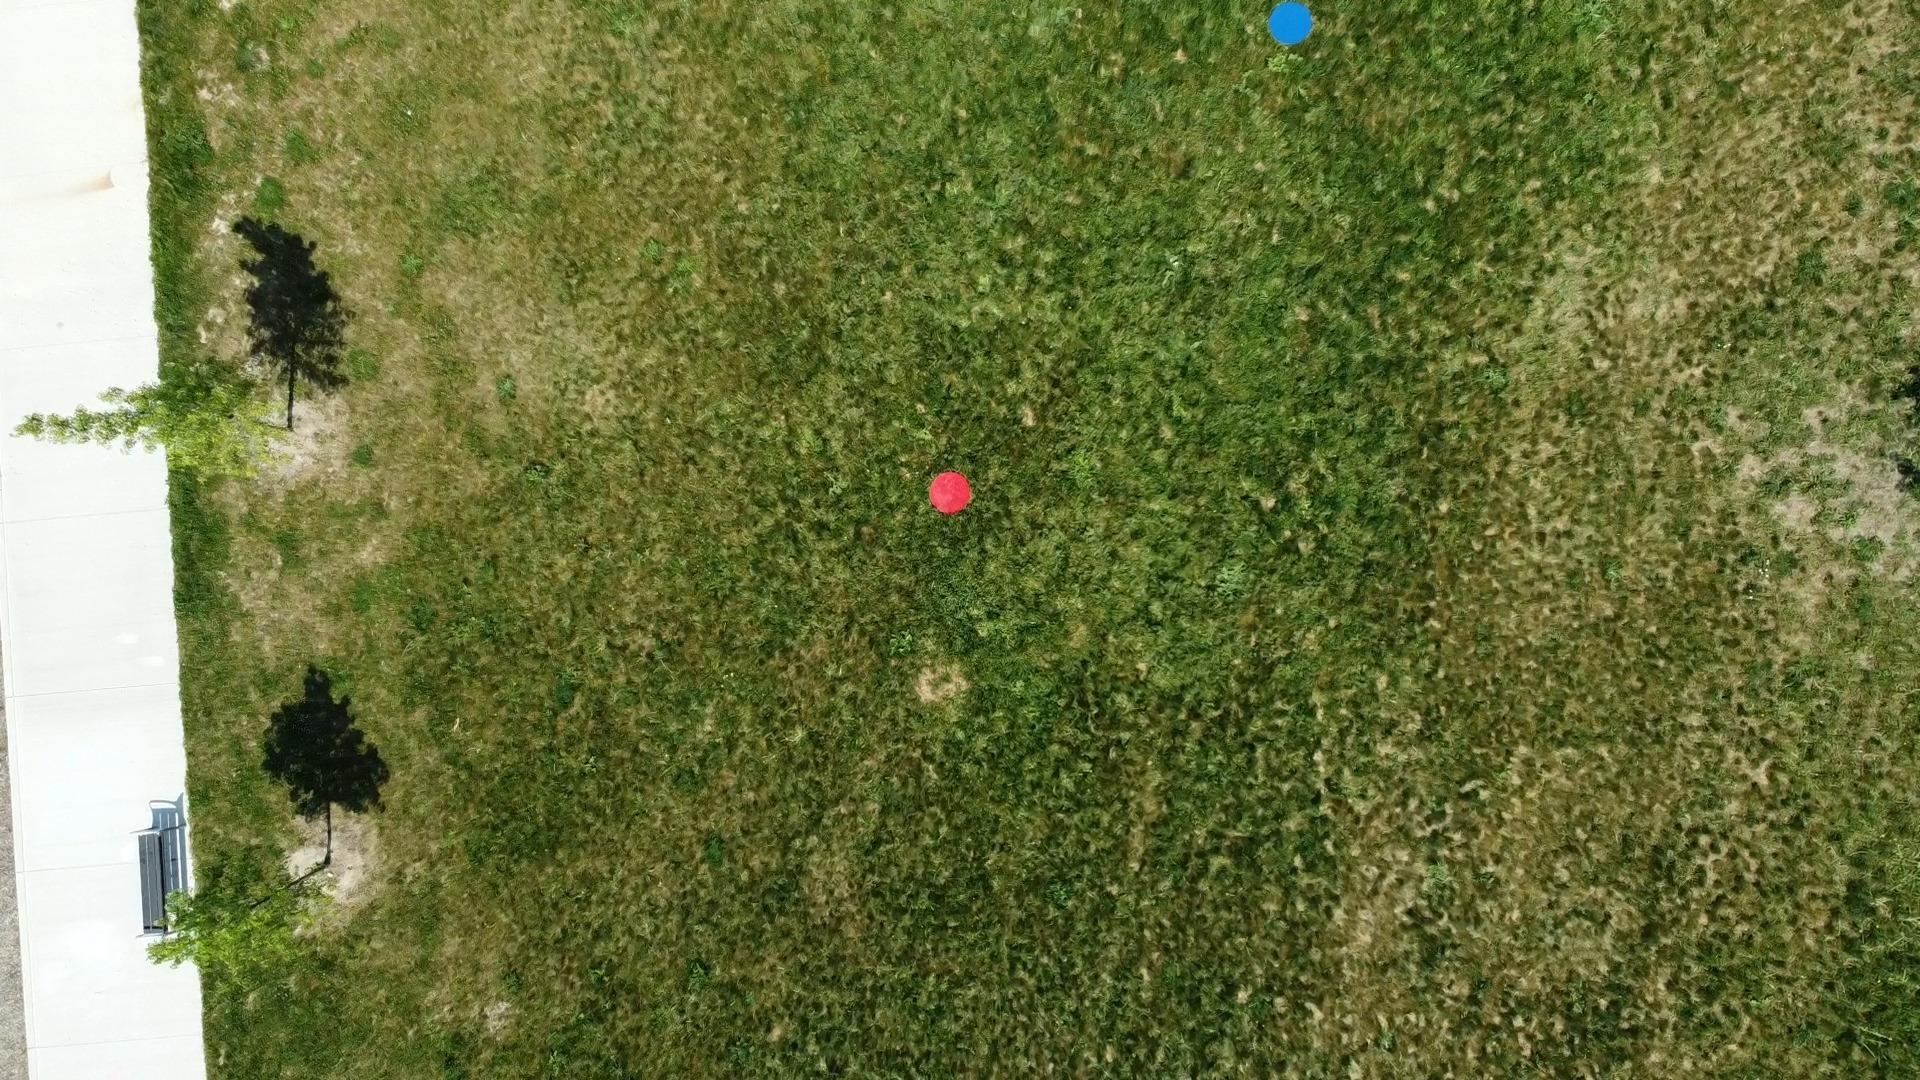Blue: (1267, 0, 1315, 46)
Red: (928, 471, 973, 516)
